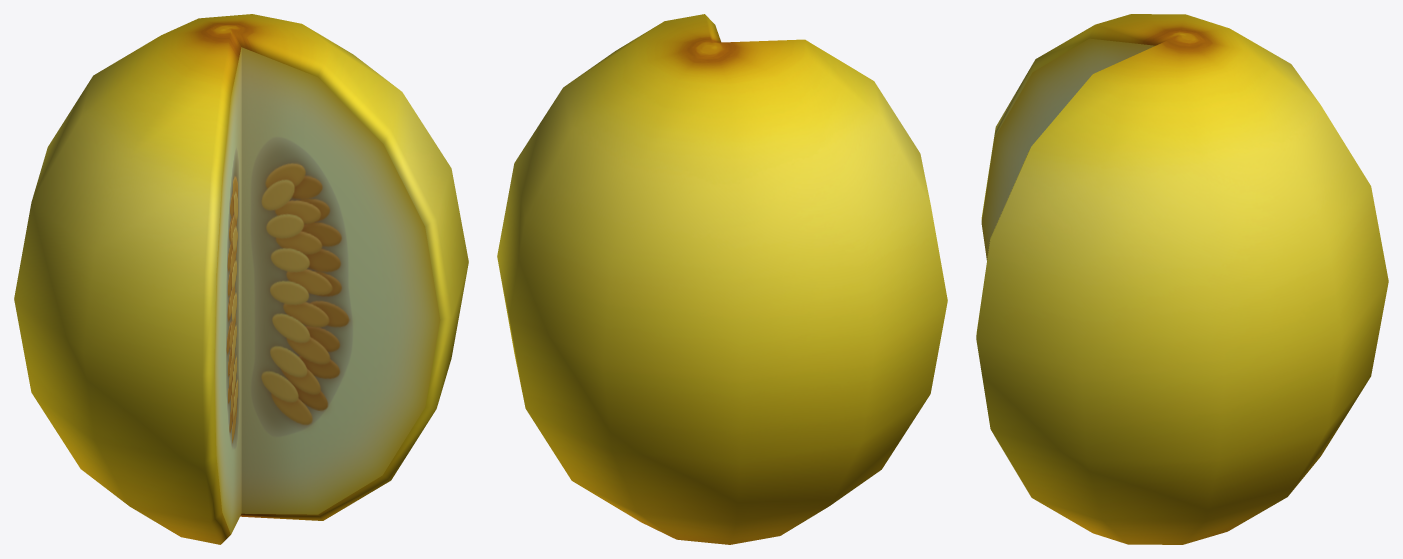
File: YellowMelon_Cut.fbx
3 views of the same model, side by side, from view 1: azimuth 30°, elevation 25°; view 2: azimuth 150°, elevation 25°; view 3: azimuth 270°, elevation 25° (orthographic).
Parts seen in each view (by area): view 1: YellowMelon_Cut; view 2: YellowMelon_Cut; view 3: YellowMelon_Cut.
Part boxes in pixels (left/top/right/bottom): YellowMelon_Cut: left=14, top=14, right=468, bottom=544; YellowMelon_Cut: left=497, top=14, right=947, bottom=544; YellowMelon_Cut: left=976, top=14, right=1388, bottom=544.
Bounding box in the file's own units: 49.63 × 60.22 × 46.15.
1 material, 1 textured.
